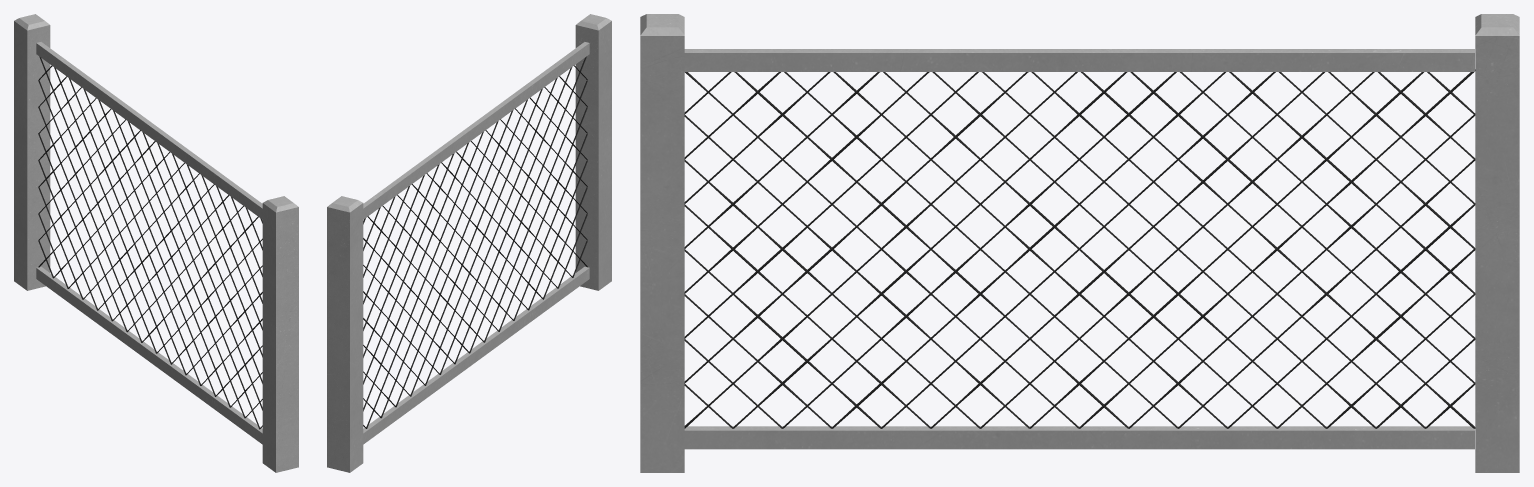
File: Cerca.fbx
3 views of the same model, side by side, from view 1: azimuth 30°, elevation 25°; view 2: azimuth 150°, elevation 25°; view 3: azimuth 270°, elevation 25° (orthographic). The views are drawn at different scales.
Visible parts, largest first — view 1: Cerca1; view 2: Cerca1; view 3: Cerca1.
Part boxes in pixels (bbox=[...]): Cerca1: bbox=[14, 14, 298, 472]; Cerca1: bbox=[327, 14, 611, 472]; Cerca1: bbox=[640, 14, 1519, 472].
Size of the model in its own units: 0.0663 by 0.727 by 1.31.
2 materials, 2 textured.
